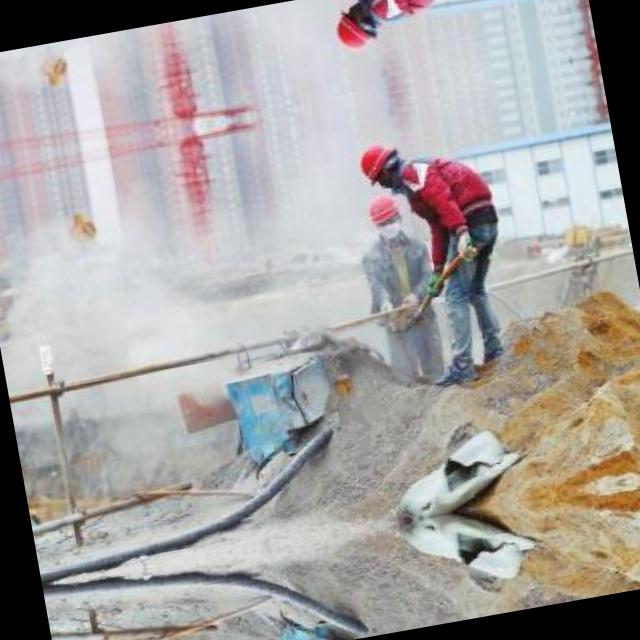helmet: (352, 135, 404, 191), (360, 190, 412, 246), (328, 0, 380, 54)
